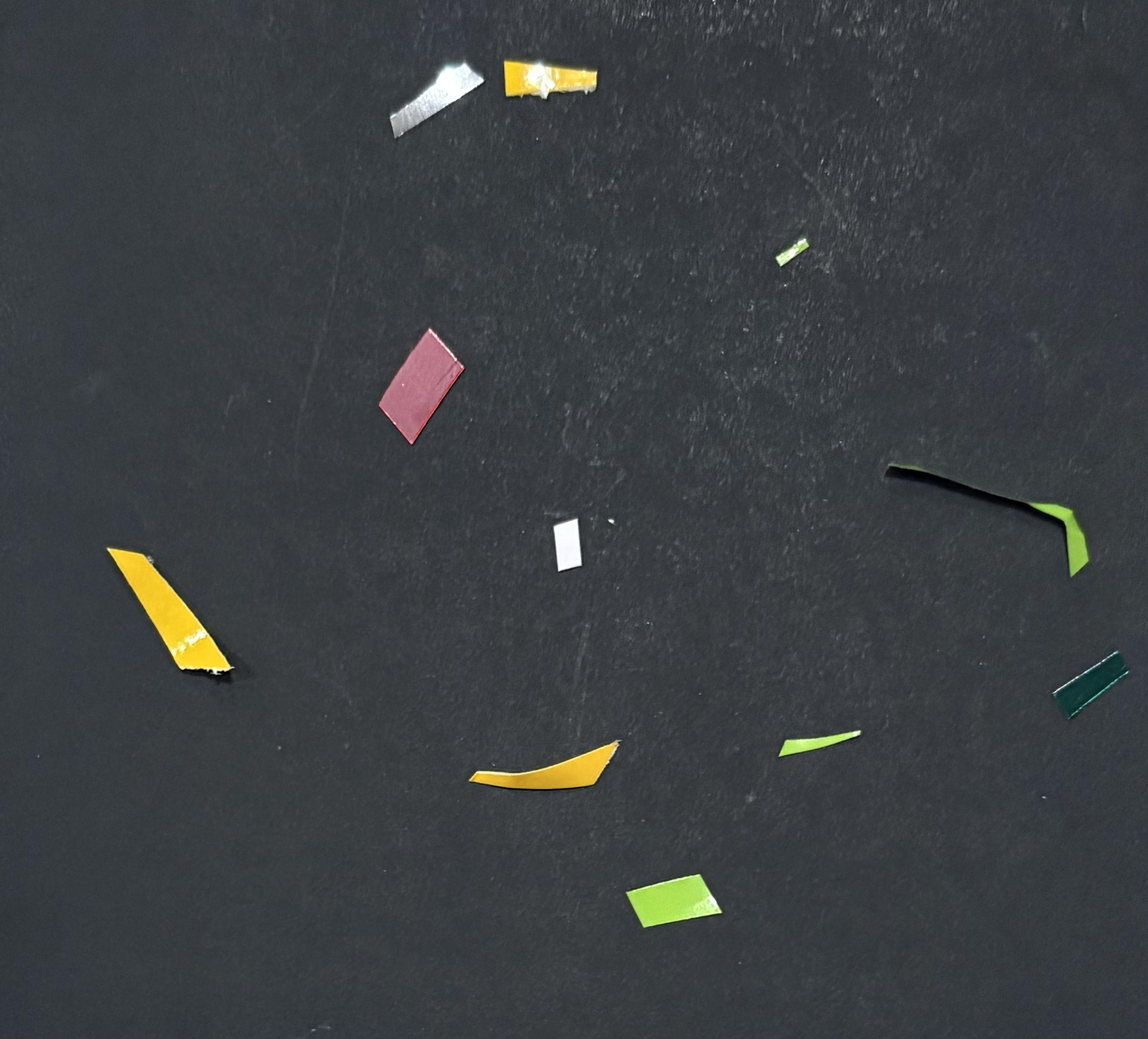Microplastic Particle: (883, 442, 1107, 590), (97, 528, 248, 687), (461, 707, 666, 812), (375, 308, 474, 457), (375, 47, 491, 149), (500, 47, 642, 121), (612, 871, 750, 937), (1039, 642, 1133, 728), (545, 504, 597, 593), (776, 728, 886, 761), (767, 228, 823, 291)
